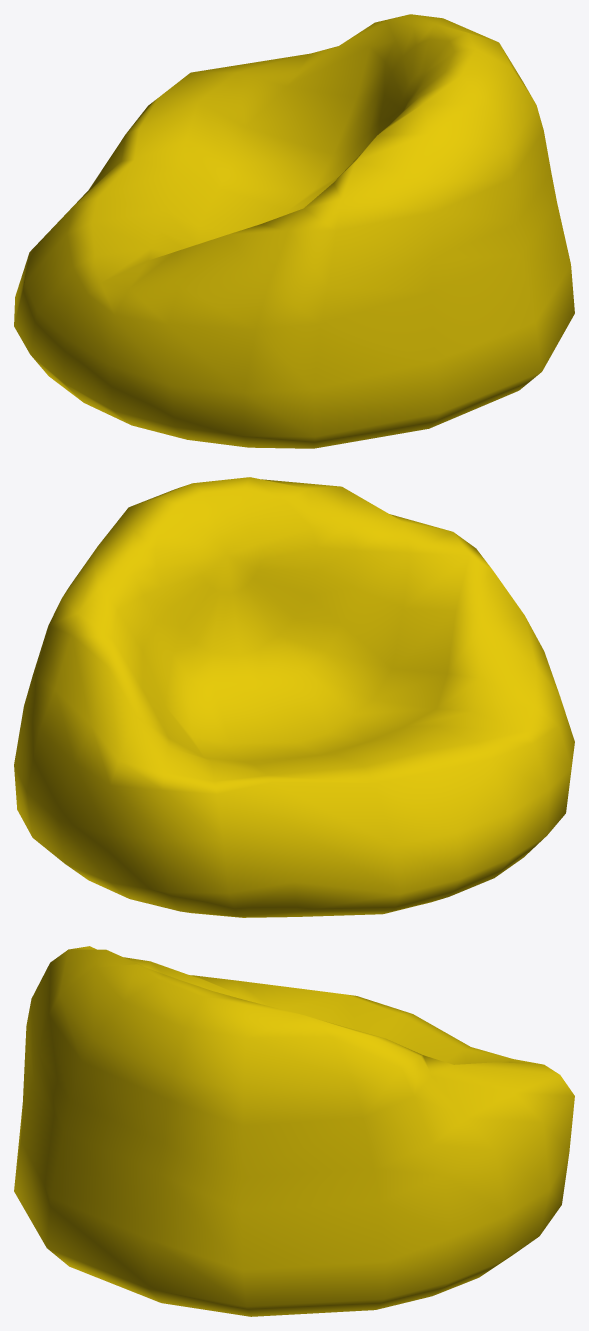
File: BagChair.glb
3 views of the same model, one above another, from view 1: azimuth 30°, elevation 25°; view 2: azimuth 150°, elevation 25°; view 3: azimuth 270°, elevation 25° (orthographic). The views are drawn at different scales.
Parts seen in each view (by area): view 1: BeanBag_LP; view 2: BeanBag_LP; view 3: BeanBag_LP.
Boxes of the visible parts, x1=… form: BeanBag_LP: x1=14, y1=14, x2=574, y2=448; BeanBag_LP: x1=14, y1=477, x2=574, y2=917; BeanBag_LP: x1=14, y1=946, x2=574, y2=1316.
Bounding box in the file's own units: 1.25 × 0.7197 × 1.27.
